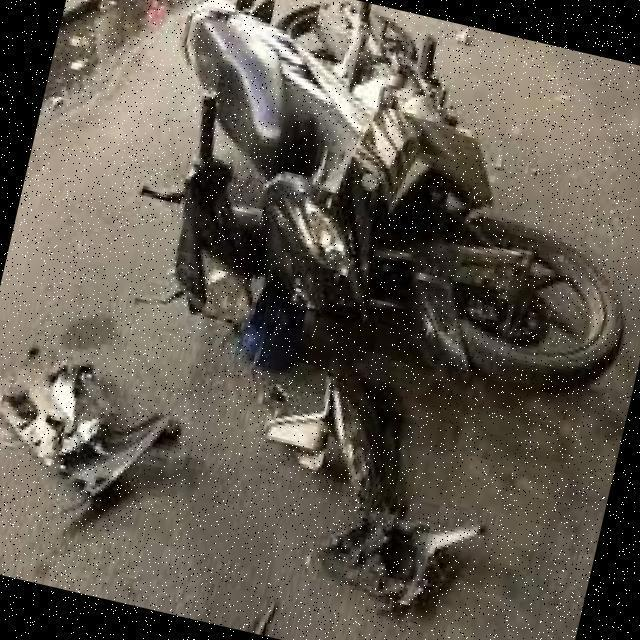accident: (77, 0, 640, 528)
